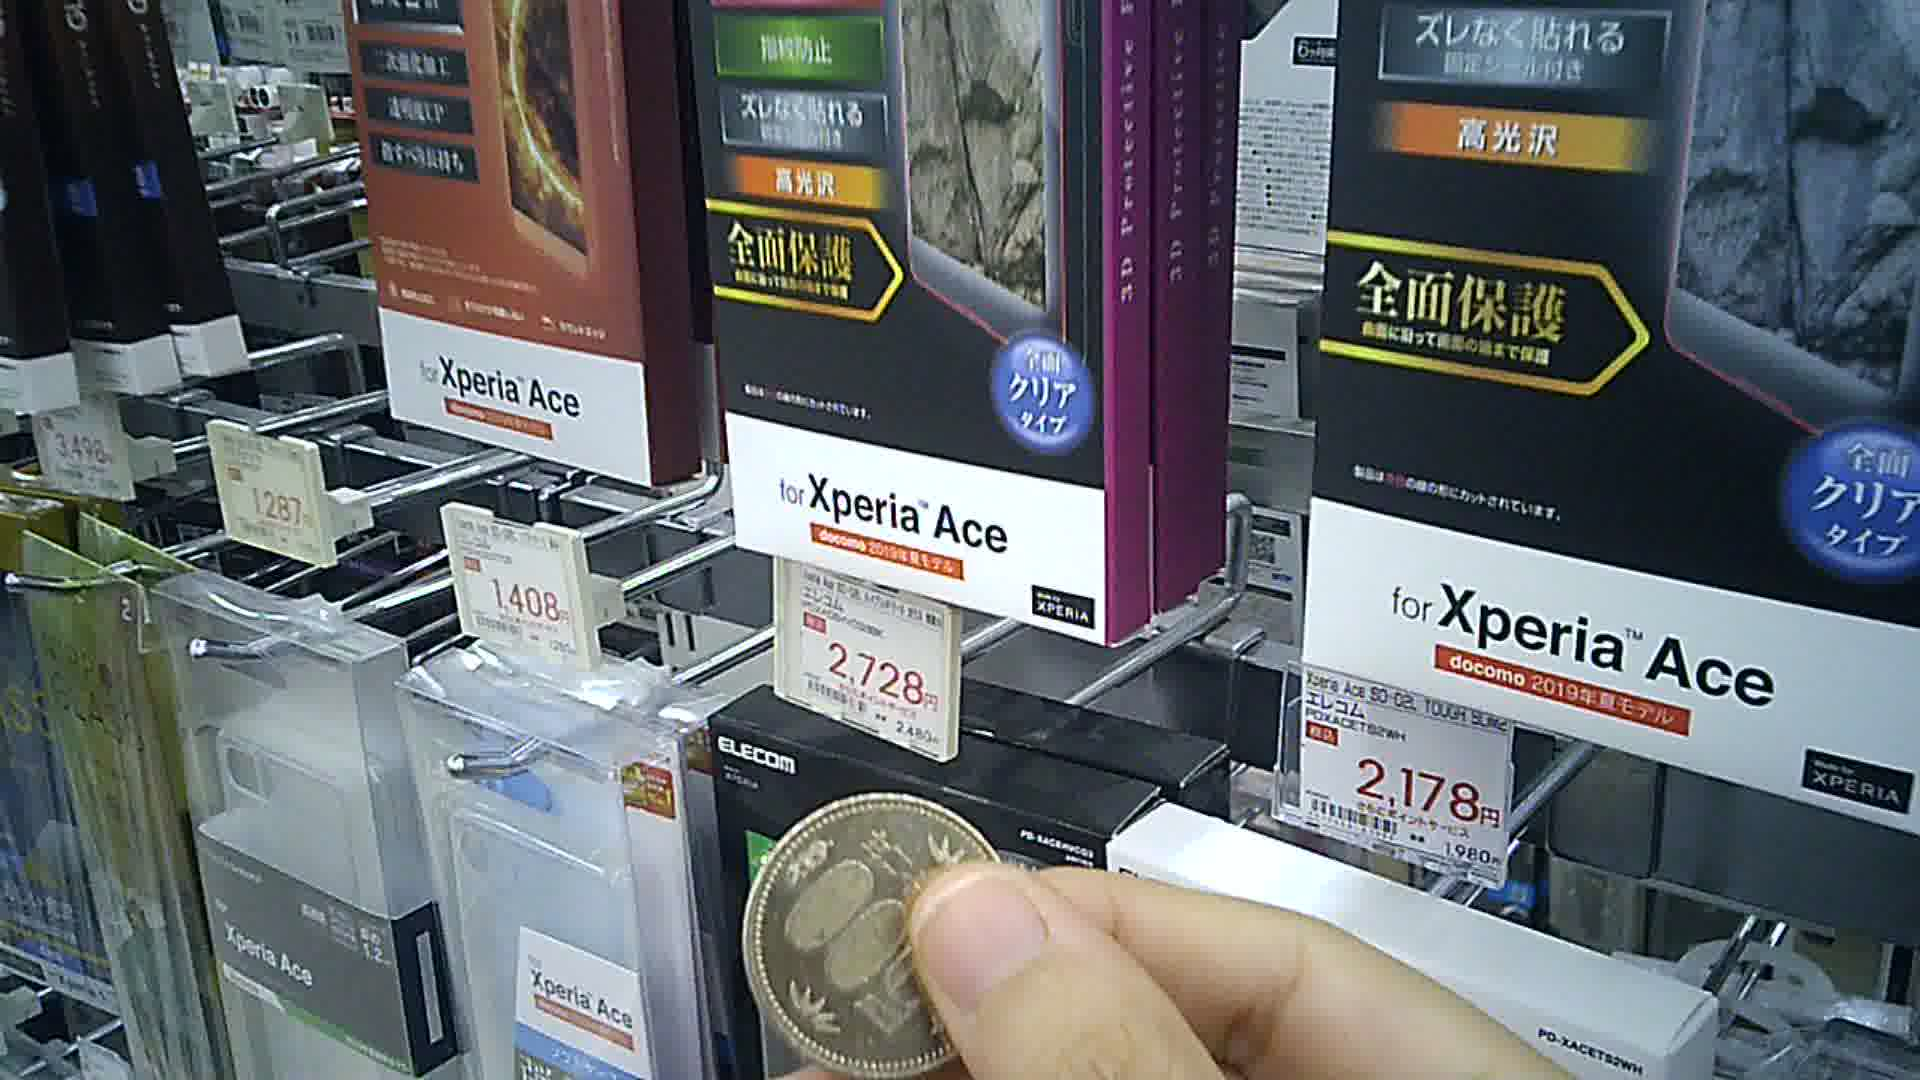500 Yen: (732, 791, 1022, 1077)
